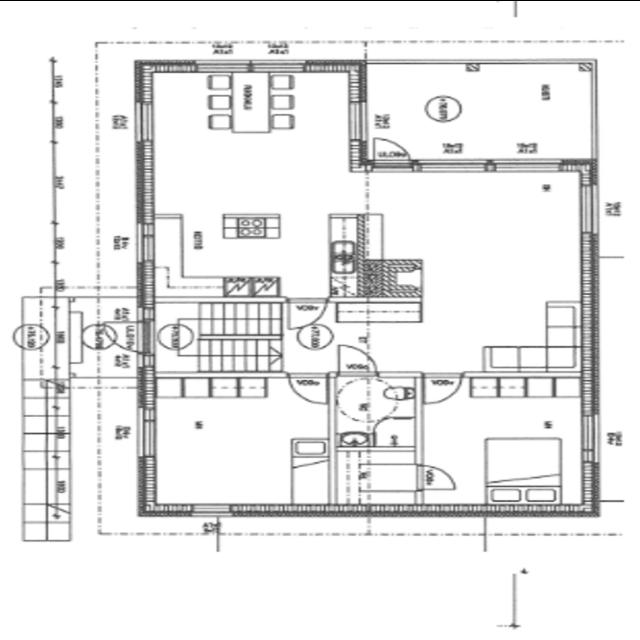door: (101, 318, 155, 356), (421, 367, 473, 406), (287, 374, 334, 407), (369, 132, 411, 164), (333, 344, 378, 372), (422, 462, 463, 492)
window: (190, 51, 308, 79), (129, 409, 165, 463), (576, 178, 604, 237), (132, 216, 160, 270), (577, 410, 601, 466), (424, 158, 489, 178), (134, 97, 159, 147), (349, 98, 373, 146), (184, 500, 246, 516), (498, 161, 570, 174), (373, 161, 413, 177), (133, 352, 155, 371), (137, 304, 155, 323)
